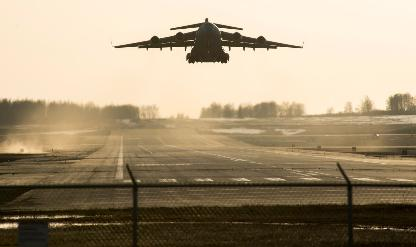C2: (110, 18, 304, 64)
